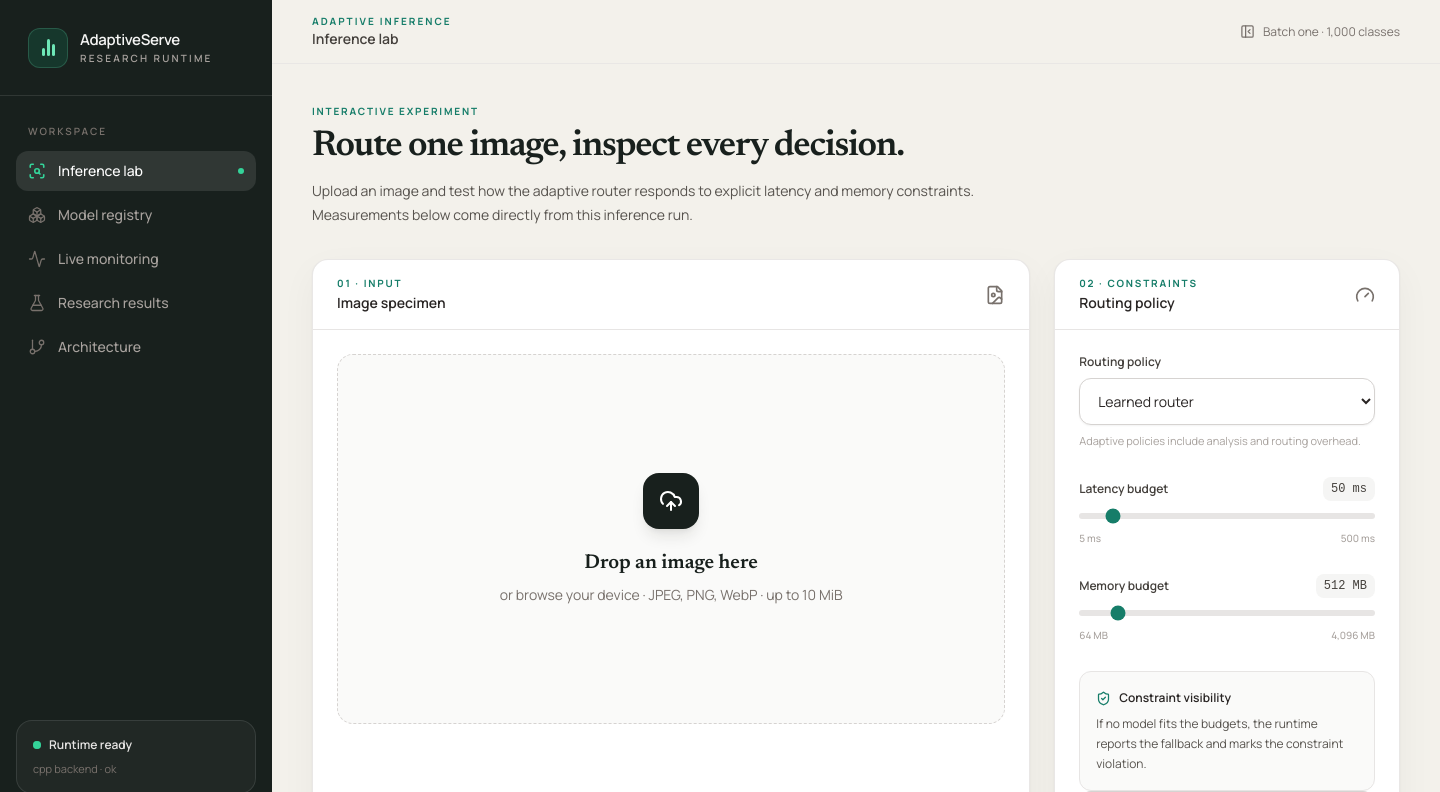
Test: AdaptiveServe console › shows a clear empty state when live monitoring has no requests
Step 1. Click the link "Live monitoring" → click(93, 258), box [28,249,159,268]
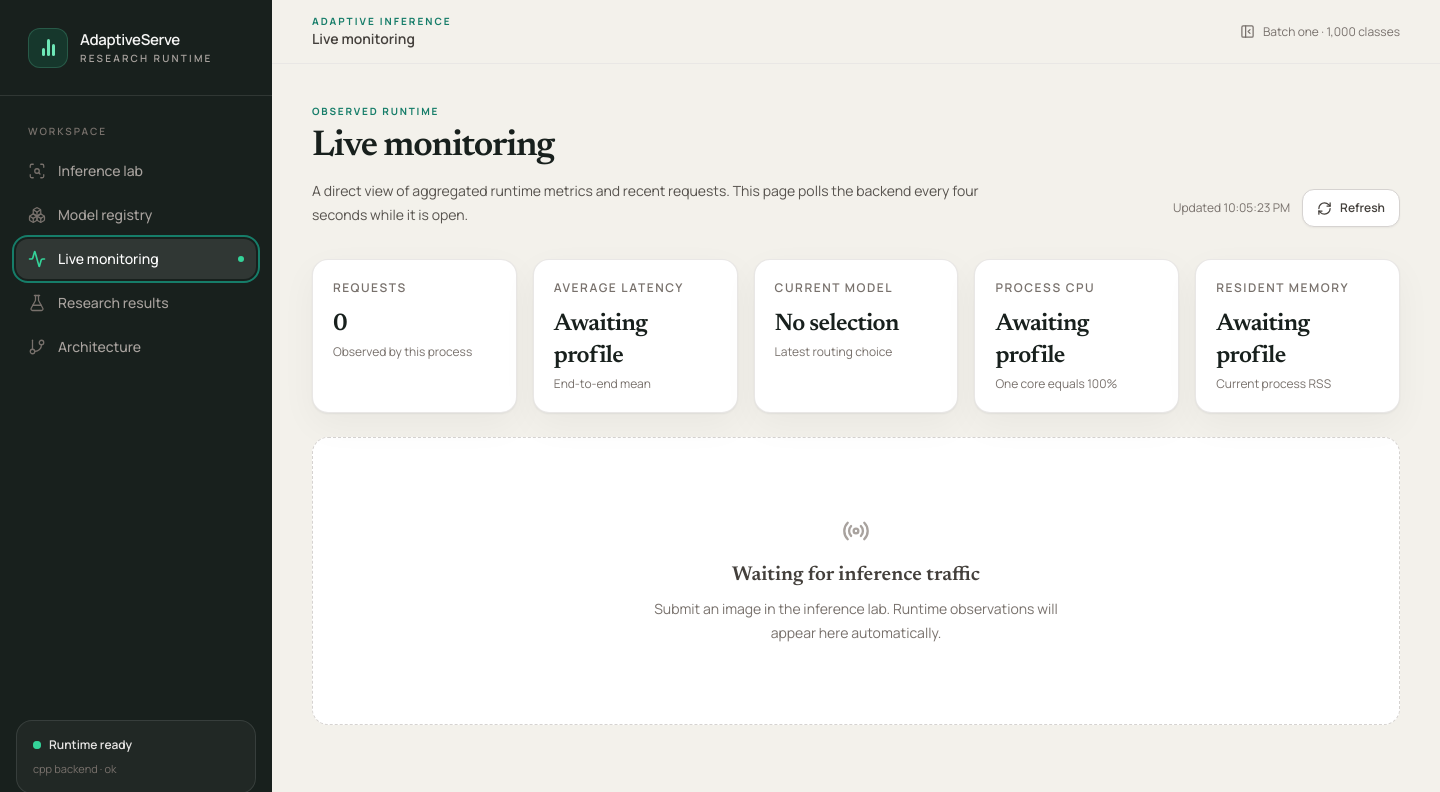
Expected: the heading "Live monitoring" is shown, [312,129,554,165]
Expected: the heading "Waiting for inference traffic" is shown, [732,561,980,589]
